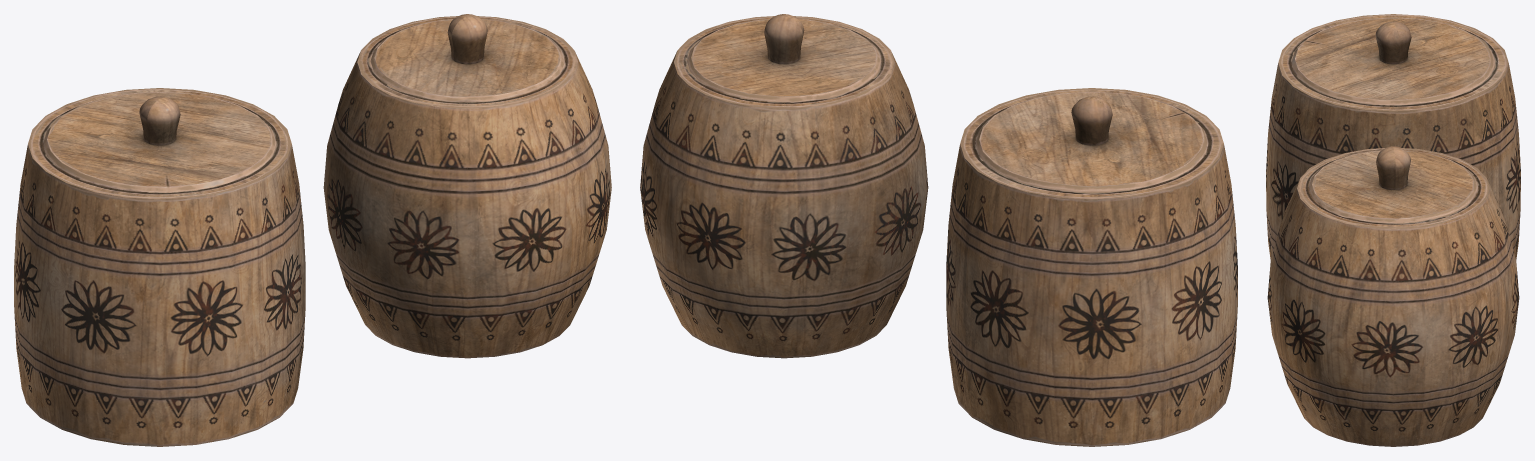
File: wooden_saltsugar_boxes_-_barrels.glb
The picture shows the model from 3 angles, left to right: view 1: azimuth 30°, elevation 25°; view 2: azimuth 150°, elevation 25°; view 3: azimuth 270°, elevation 25°; orthographic projection. The views are drawn at different scales.
Parts seen in each view (by area): view 1: Object_2; view 2: Object_2; view 3: Object_2.
Boxes of the visible parts, x1=… form: Object_2: x1=14, y1=14, x2=611, y2=446; Object_2: x1=640, y1=14, x2=1237, y2=446; Object_2: x1=1266, y1=14, x2=1520, y2=446.
Size of the model in its own units: 19.9 by 10.15 by 8.99.
Materials: 1 (1 with a texture image).
